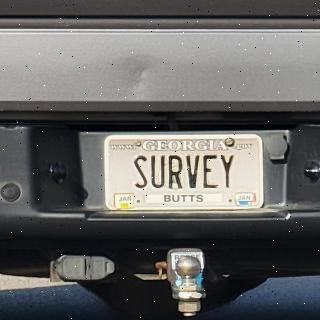license: (105, 135, 265, 212)
